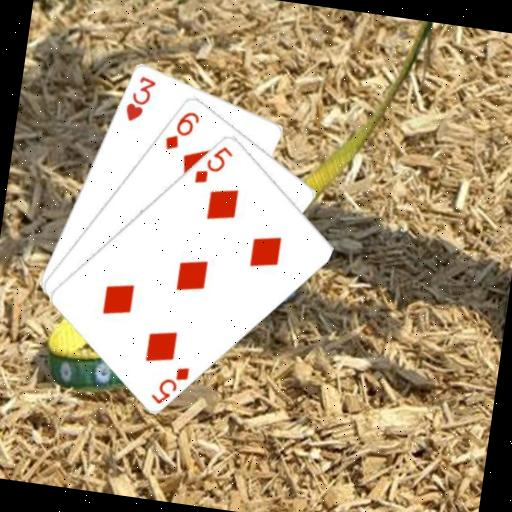3H: (121, 71, 159, 125)
5D: (190, 138, 236, 189), (147, 359, 192, 409)
6D: (160, 104, 203, 155)
